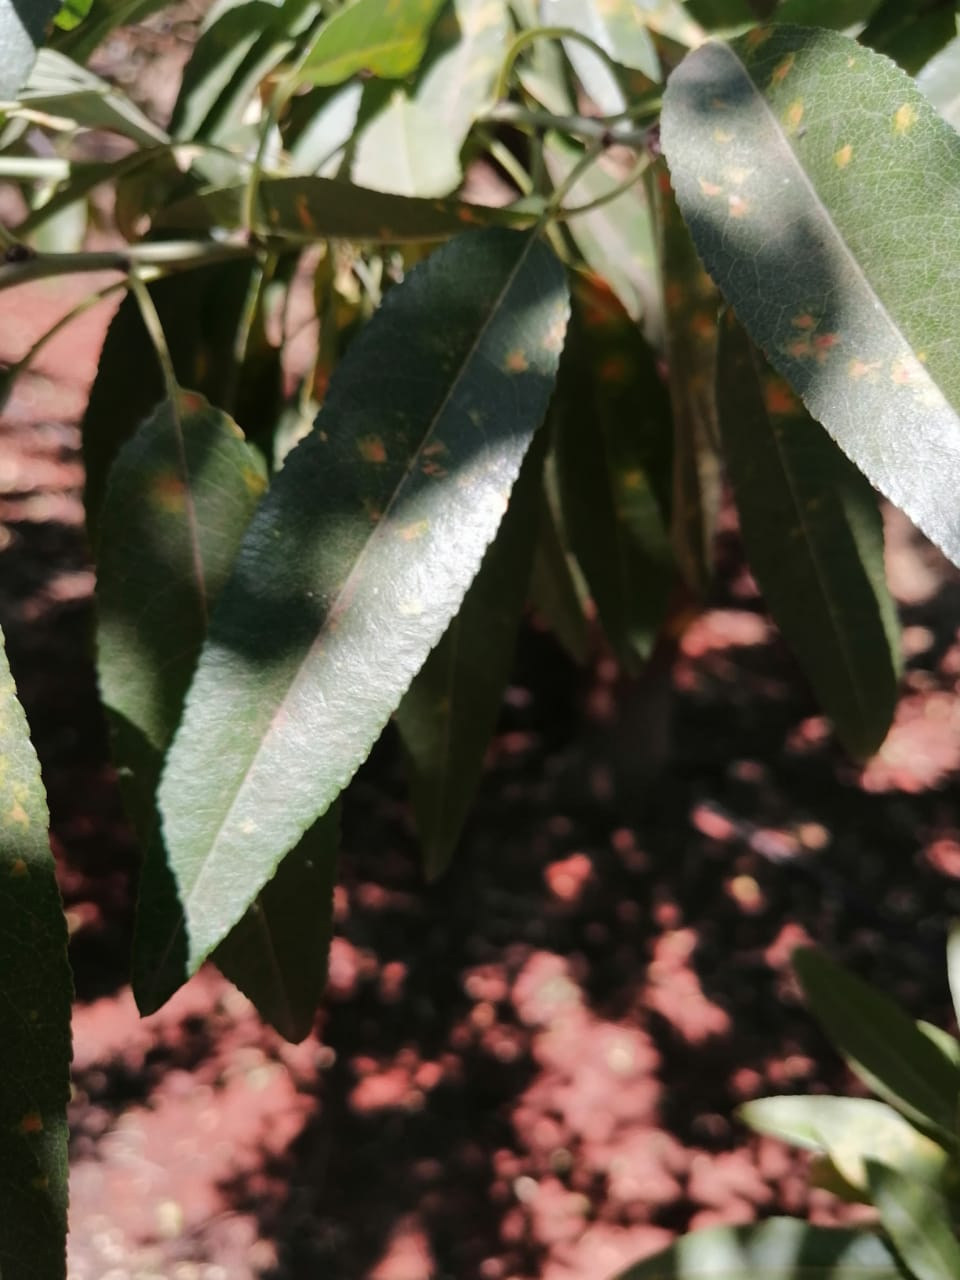polystigma: (129, 214, 569, 1022), (661, 23, 960, 567), (91, 384, 284, 750)
